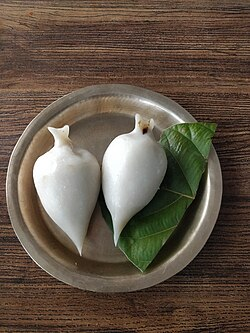yomari: (108, 115, 165, 248), (43, 122, 88, 256)
